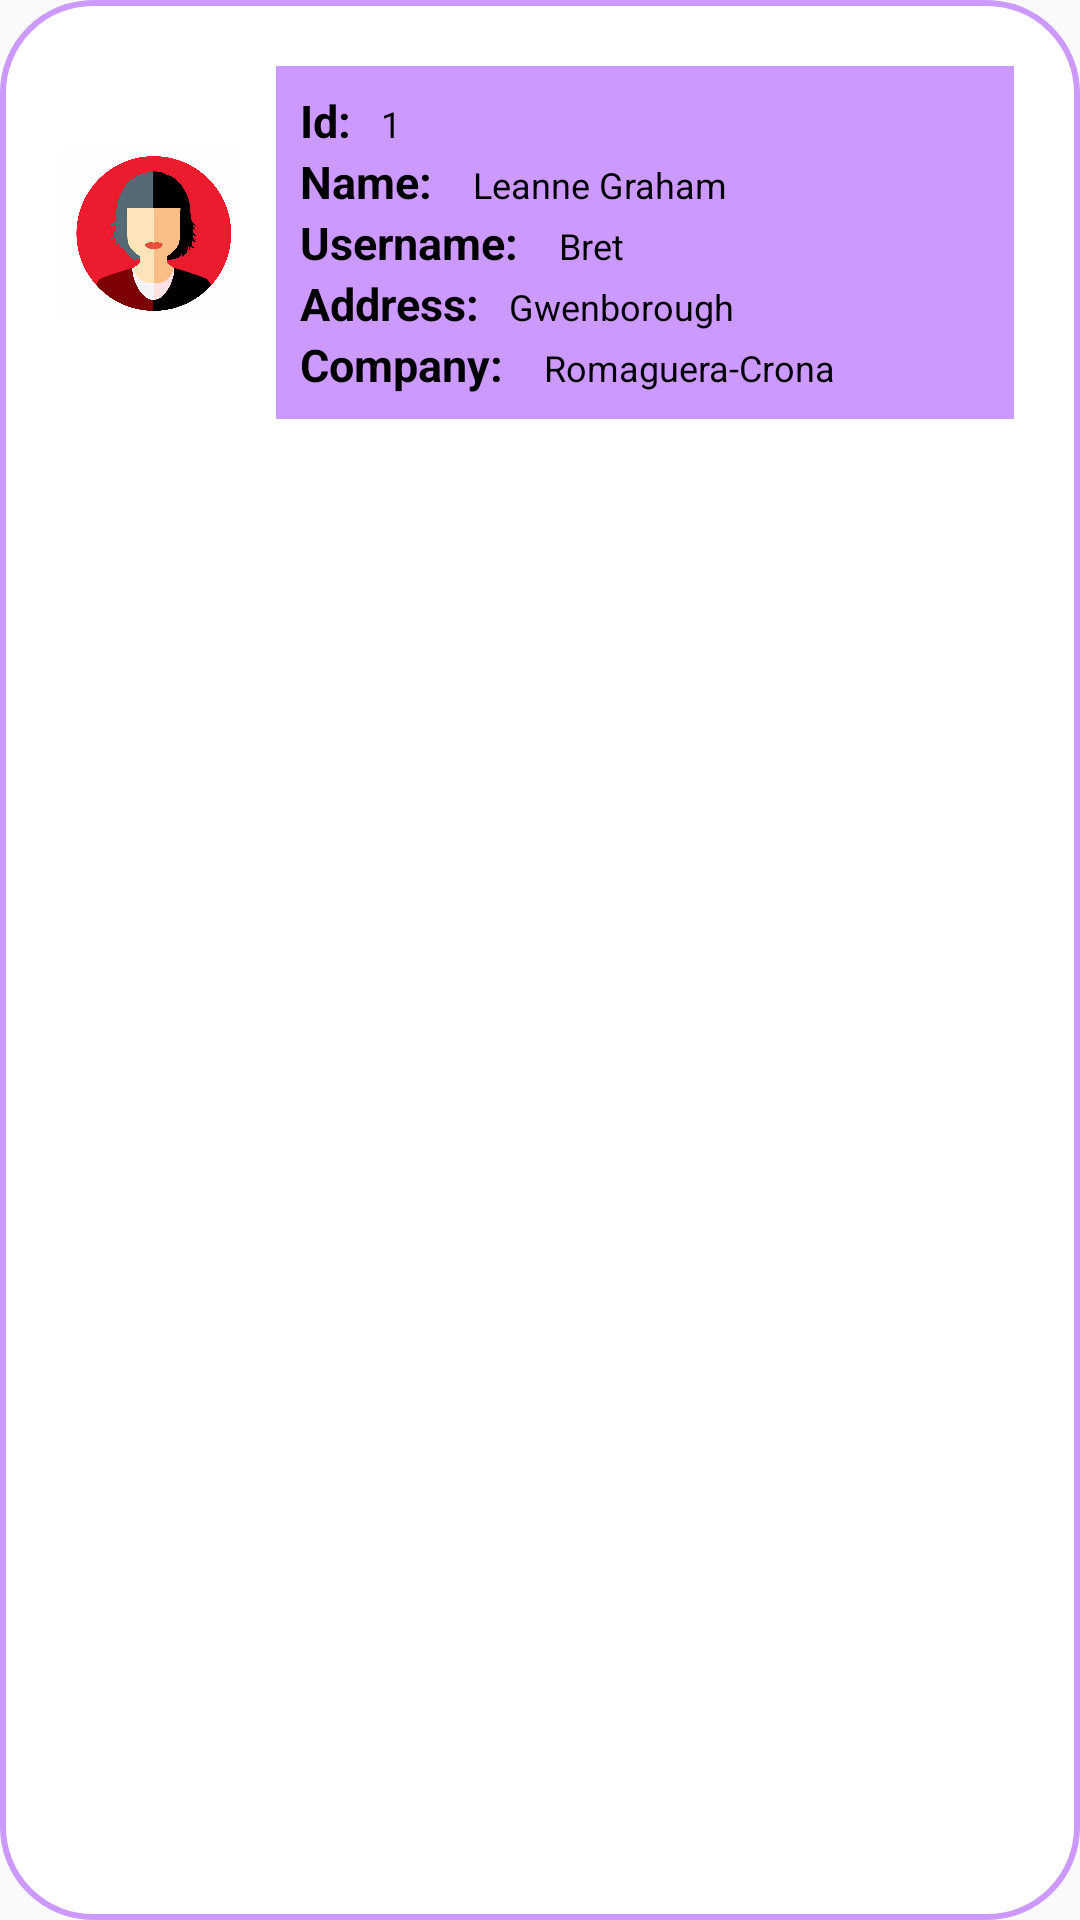

Where to tap for icons on this 1080*1920 app screen, as (x=x, y=y):
personas: (x=153, y=233)
